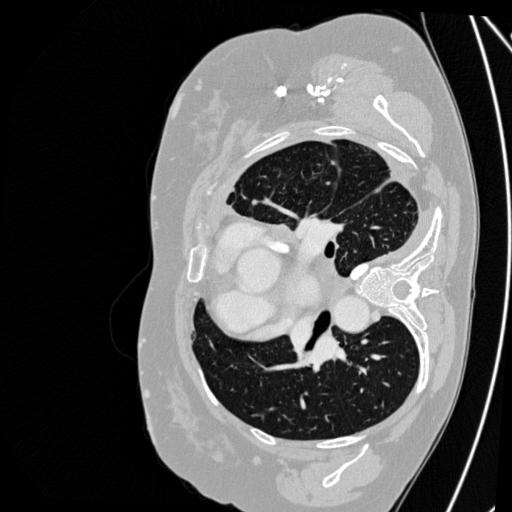nodule: (250, 196, 260, 206)
